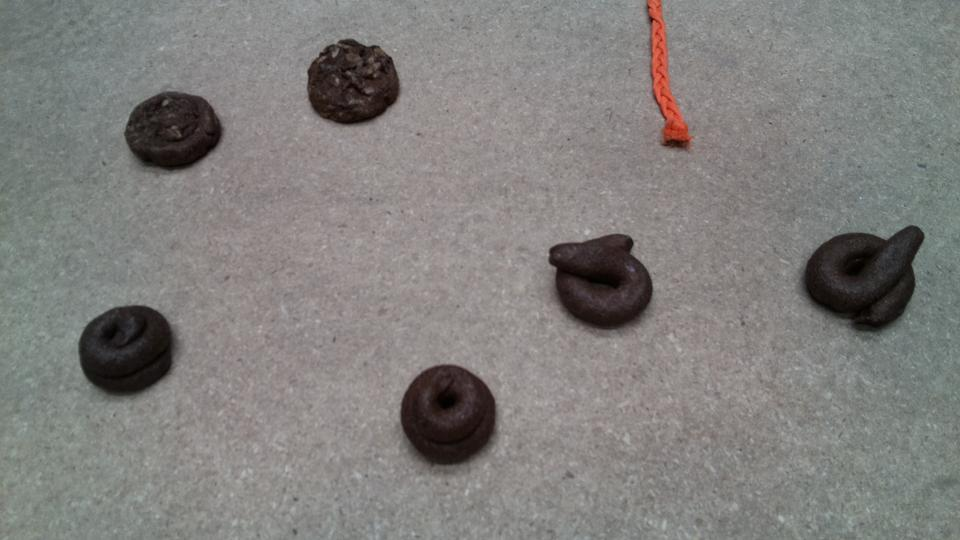poop: (797, 220, 935, 336), (546, 229, 658, 331), (398, 360, 500, 468), (74, 303, 174, 400), (304, 34, 404, 127), (120, 87, 227, 172)
rope: (644, 1, 695, 150)
